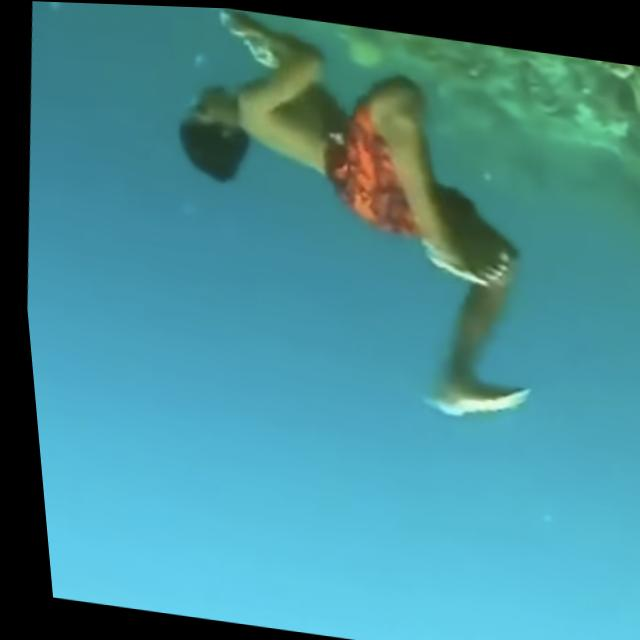human: (129, 4, 573, 430)
